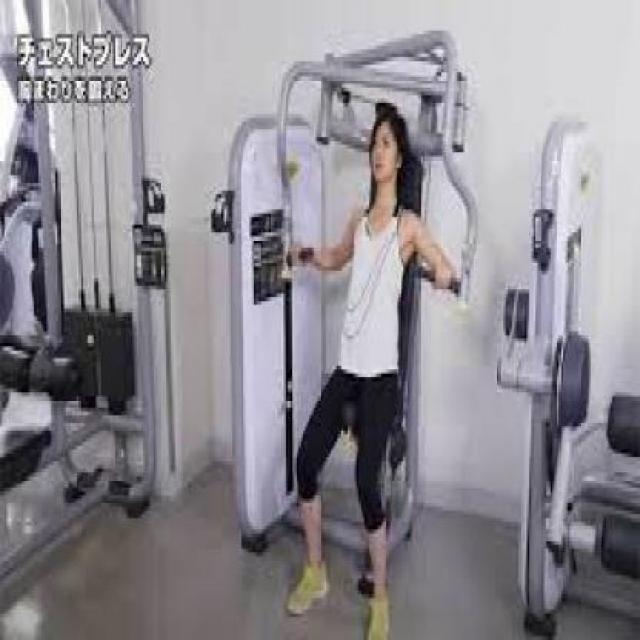Chest Press machine: (206, 26, 482, 640)
